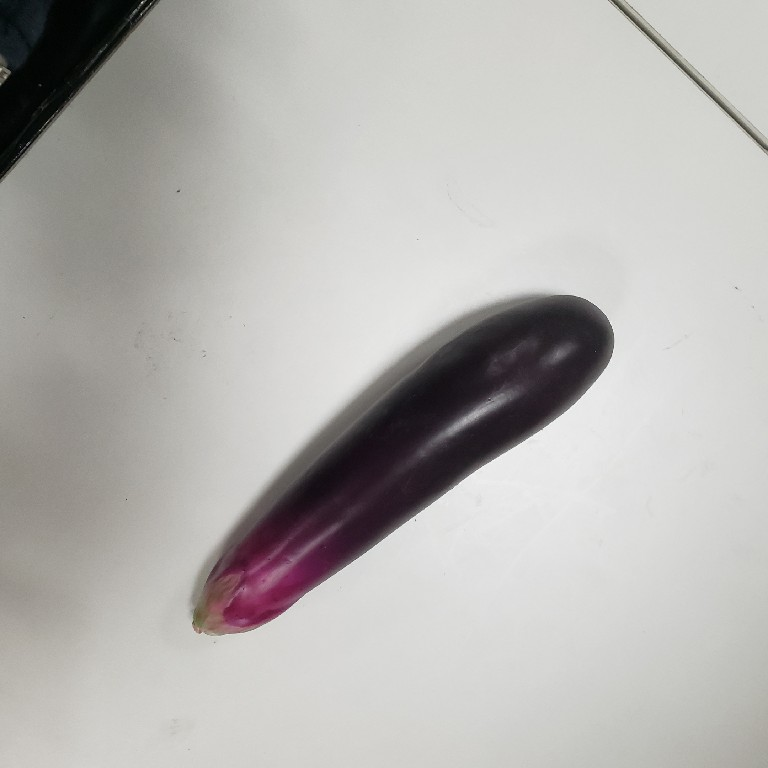fruit_eggplant: (185, 291, 618, 639)
